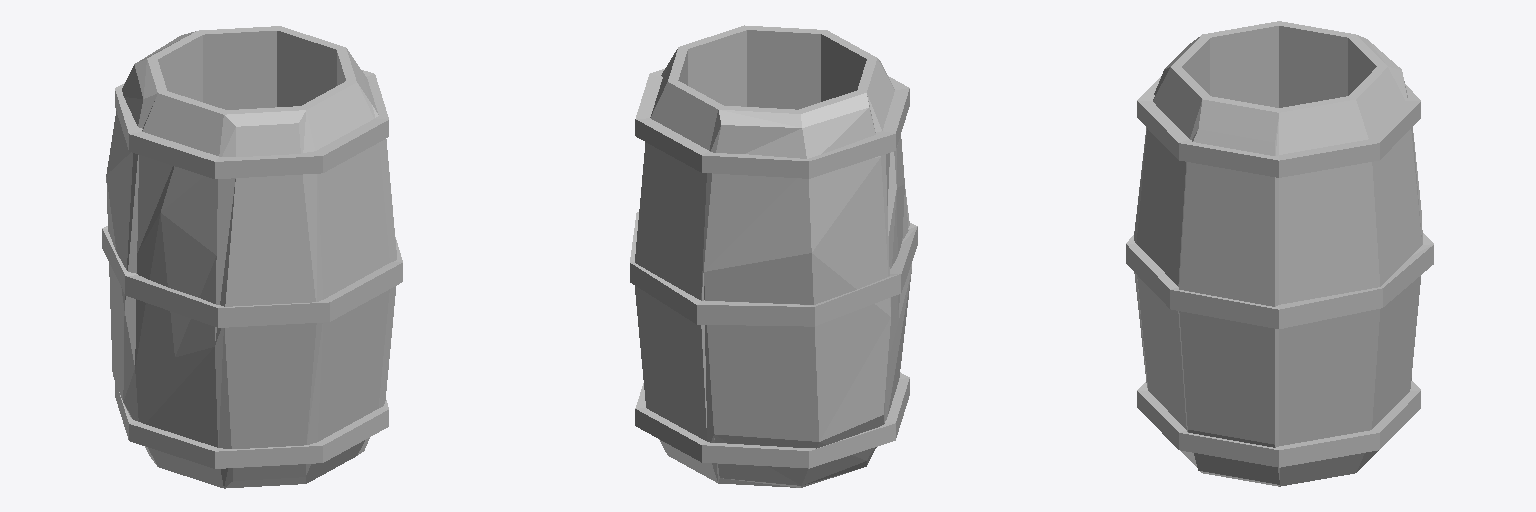
The model's file is Barrel.obj.
The picture shows the model from 3 angles: view 1: azimuth 30°, elevation 25°; view 2: azimuth 150°, elevation 25°; view 3: azimuth 270°, elevation 25°; orthographic projection.
Visible parts, largest first — view 1: Cylinder.001; view 2: Cylinder.001; view 3: Cylinder.001.
Part boxes in pixels (bbox=[...]): Cylinder.001: bbox=[102, 26, 402, 488]; Cylinder.001: bbox=[630, 25, 917, 487]; Cylinder.001: bbox=[1126, 21, 1433, 486].
Bounding box in the file's own units: 1.6 × 2.17 × 1.62.